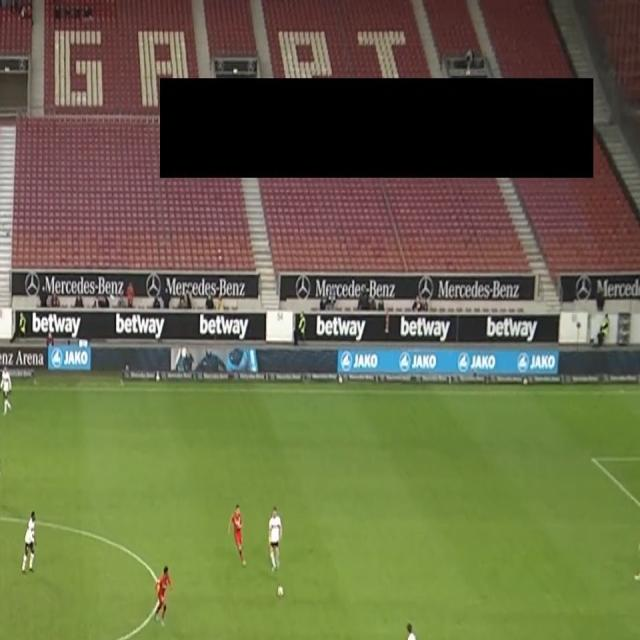ball: (276, 584, 284, 598)
